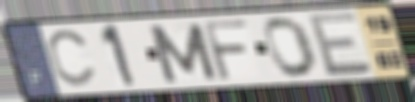1: (99, 22, 139, 91)
C: (45, 28, 99, 90)
E: (305, 10, 376, 79)
F: (200, 19, 252, 83)
M: (144, 22, 221, 85)
O: (262, 15, 320, 80)
